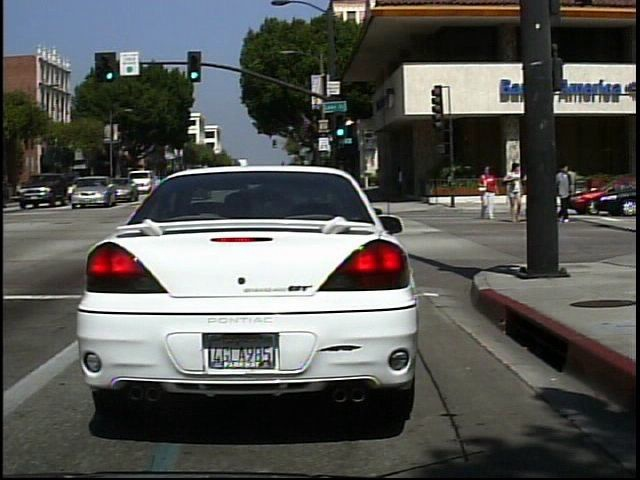person: (477, 164, 503, 225), (525, 160, 546, 226), (505, 161, 527, 223), (557, 159, 578, 222), (559, 161, 584, 212)
